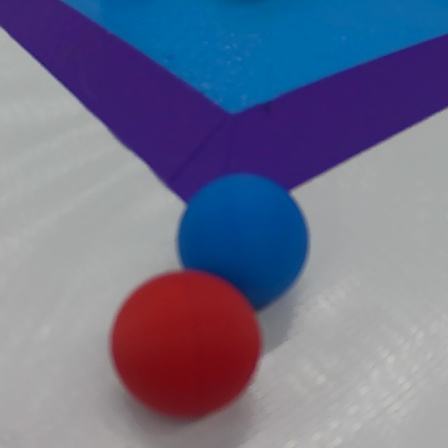blue: (174, 168, 316, 317)
blue_aim: (0, 0, 448, 236)
red: (108, 270, 264, 424)
